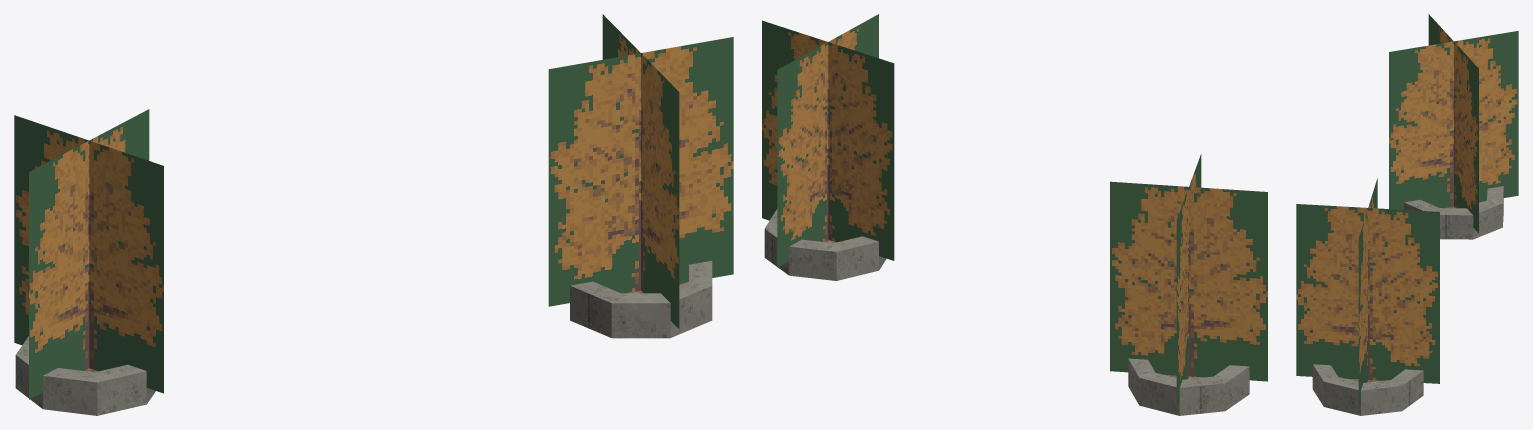
Rendered from procgen-procpain-tree-park-large-xm2zm3.obj.
The picture shows the model from 3 angles, left to right: view 1: azimuth 30°, elevation 25°; view 2: azimuth 150°, elevation 25°; view 3: azimuth 270°, elevation 25°; orthographic projection. The views are drawn at different scales.
Bounding box in the file's own units: 19.67 × 7.3 × 7.98.
